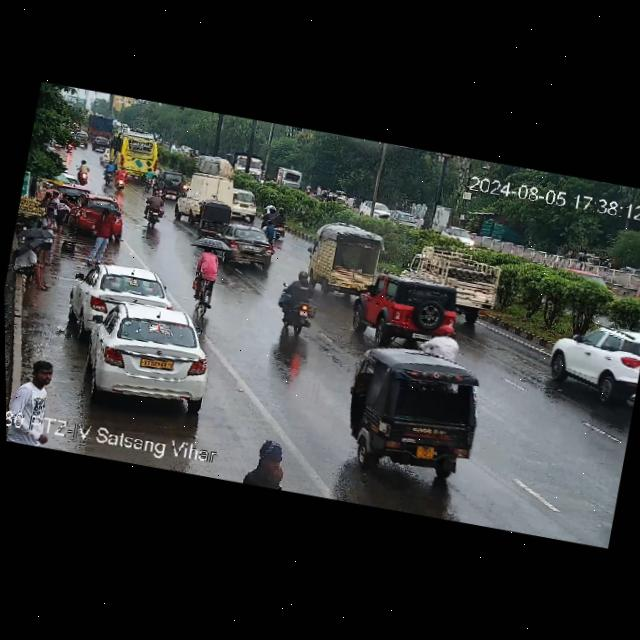bus: (110, 130, 167, 176)
car: (345, 339, 495, 486), (66, 290, 223, 416), (345, 269, 466, 354), (543, 314, 640, 409), (72, 258, 179, 331), (210, 218, 281, 269), (75, 195, 129, 242), (188, 198, 236, 234), (149, 175, 190, 203), (437, 225, 476, 250), (357, 198, 389, 222), (388, 208, 420, 231), (89, 133, 114, 153), (76, 132, 91, 149), (330, 194, 348, 208), (100, 146, 111, 164)
motorcycle: (276, 271, 325, 340), (187, 244, 224, 315), (421, 321, 469, 363), (258, 202, 291, 240), (140, 193, 173, 228), (99, 161, 127, 191), (112, 166, 135, 192), (73, 159, 91, 183), (101, 161, 118, 185), (63, 134, 81, 156), (143, 167, 157, 193)
person: (6, 357, 64, 418), (241, 435, 295, 493), (12, 243, 58, 290), (87, 208, 123, 256), (50, 192, 77, 237)
truck: (72, 422, 214, 479), (404, 248, 510, 321), (175, 170, 266, 229), (221, 146, 267, 185), (86, 113, 109, 139)
